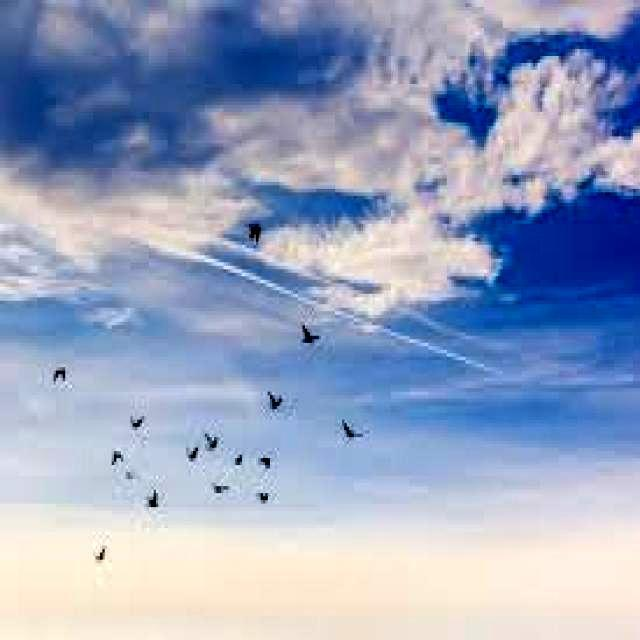bird: (120, 398, 162, 454), (242, 208, 283, 260), (263, 374, 300, 427), (294, 317, 336, 363), (336, 408, 374, 454), (210, 463, 238, 509), (48, 356, 80, 392), (253, 486, 280, 518), (179, 442, 203, 474), (90, 542, 116, 570), (200, 420, 219, 458), (106, 430, 120, 479), (232, 434, 250, 472), (256, 448, 284, 472), (122, 462, 146, 489), (143, 482, 160, 514)
